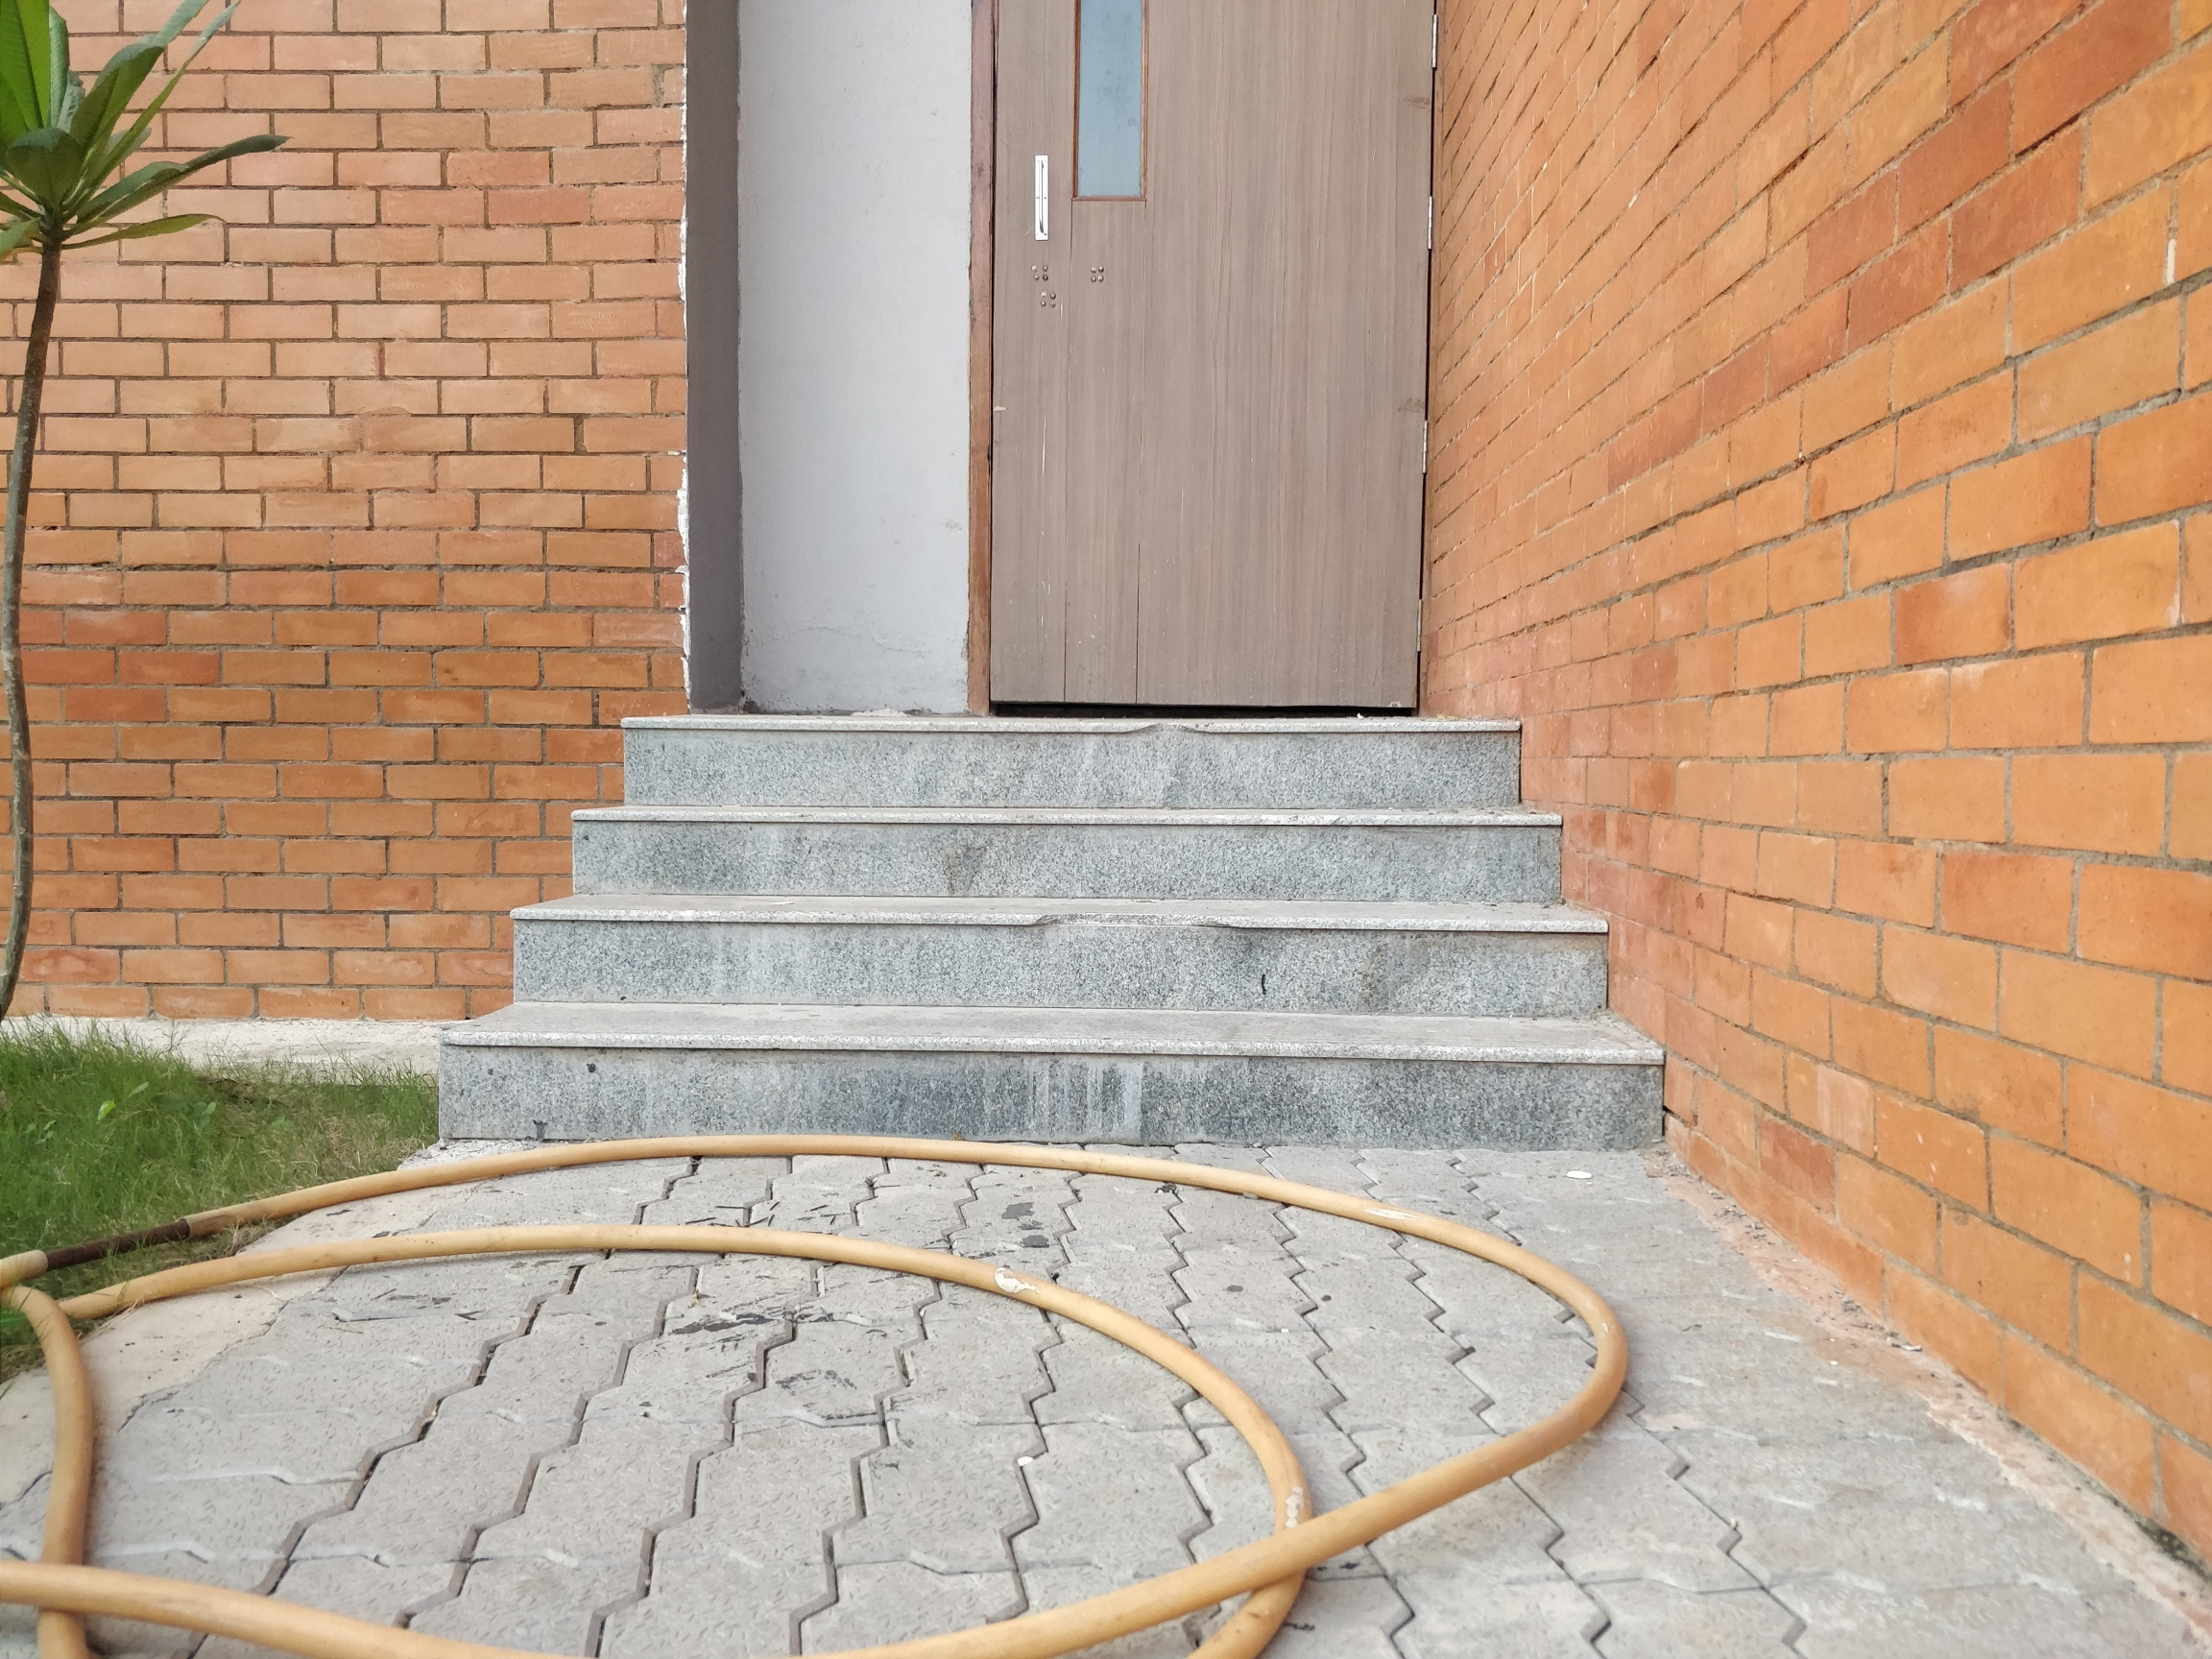stairs_up: (467, 706, 1658, 1152)
